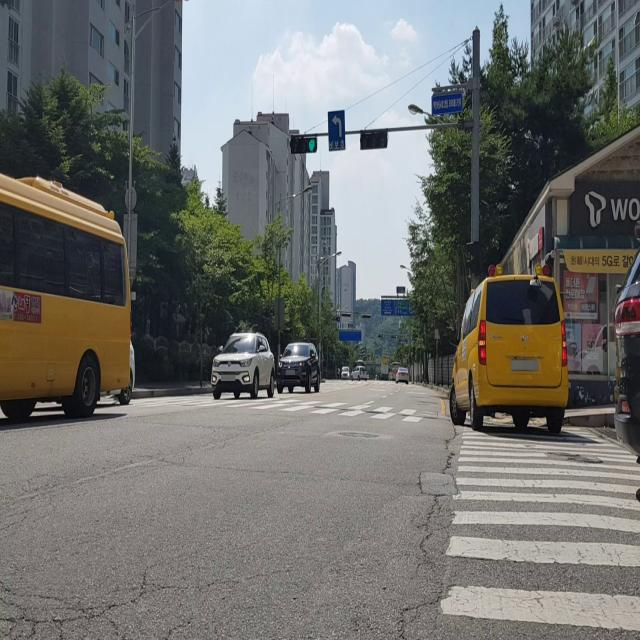횡단보도: (439, 420, 639, 640), (128, 392, 423, 426)
